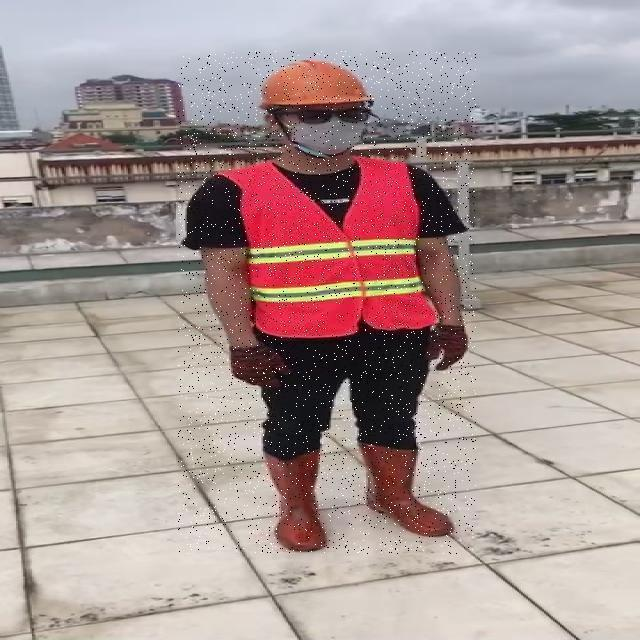boots: (358, 440, 453, 536), (262, 448, 326, 550)
gloves: (212, 318, 289, 406), (412, 303, 499, 372)
helmet: (252, 54, 380, 114)
helmet on: (225, 38, 407, 202)
person: (178, 51, 476, 554)
vest: (241, 162, 430, 334)
